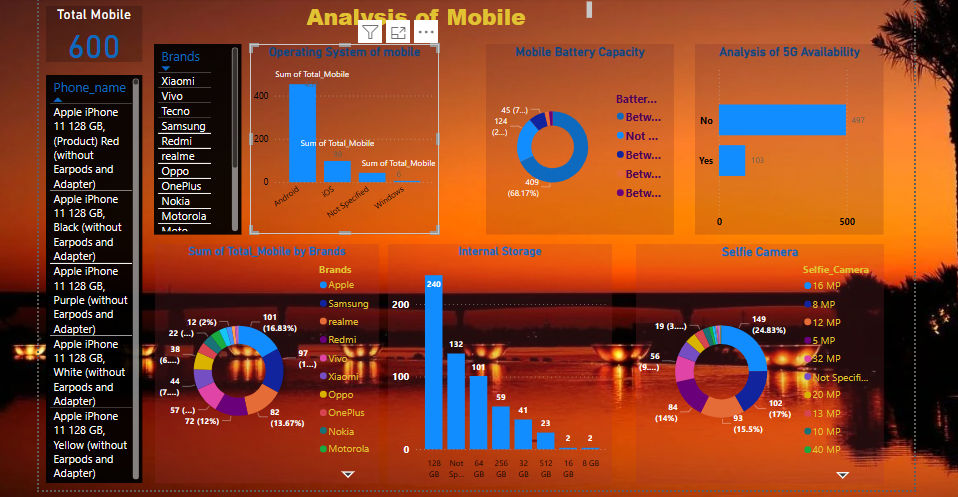

Layout of this report page (visuals, bound fields, positions):
{"tool":"powerbi","page":{"name":"Page 1","canvas":[1280,720],"ordinal":0},"visuals":[{"type":"card","title":"Total Mobile","fields":{"Values":["Sum(mobile mobile.Total_Mobile)"]},"box":[10.1,11.4,140.5,82.3],"z":0},{"type":"tableEx","fields":{"Values":["mobile mobile.Phone_name"]},"box":[9.7,113.1,140.7,597.2],"z":1000},{"type":"tableEx","fields":{"Values":["mobile mobile.Brands"]},"box":[168.1,66.7,127.8,279.2],"z":2000},{"type":"clusteredColumnChart","title":"Operating System of mobile","fields":{"Category":["mobile mobile.Operating_System_Type"],"Y":["Sum(mobile mobile.Total_Mobile)"]},"box":[308.3,66.7,276.4,279.2],"z":3000},{"type":"donutChart","title":"Mobile Battery Capacity","fields":{"Category":["mobile mobile.Battery_Capacity_Range"],"Y":["Sum(mobile mobile.Total_Mobile)"]},"box":[654.2,66.7,275,279.2],"z":4000},{"type":"barChart","title":"Analysis of 5G Availability","fields":{"Category":["mobile mobile.5G_Availability"],"Y":["Sum(mobile mobile.Total_Mobile)"]},"box":[959.7,66.7,276.4,279.2],"z":5000},{"type":"donutChart","fields":{"Category":["mobile mobile.Brands"],"Y":["Sum(mobile mobile.Total_Mobile)"]},"box":[169.4,359.7,327.8,350],"z":6000},{"type":"columnChart","title":"Internal Storage","fields":{"Category":["mobile mobile.Internal_Storage"],"Y":["Sum(mobile mobile.Total_Mobile)"]},"box":[511.1,359.7,327.8,351.4],"z":7000},{"type":"donutChart","title":"Selfie Camera","fields":{"Category":["mobile mobile.Selfie_Camera"],"Y":["Sum(mobile mobile.Total_Mobile)"]},"box":[873.6,359.7,362.5,351.4],"z":8000},{"type":"textbox","box":[386.1,0,427.8,55.6],"z":9000}]}

Visuals, with their boxes on the page's 1280x720 design canvas (x1, y1, x2, y2). These are canvas units, not pixel positions in the 958x497 screenshot, which may show the page scaled, cropped or inside an application window:
"Total Mobile" card: bbox(10, 11, 151, 94)
tableEx - mobile mobile.Phone_name: bbox(10, 113, 150, 710)
tableEx - mobile mobile.Brands: bbox(168, 67, 296, 346)
"Operating System of mobile" clusteredColumnChart: bbox(308, 67, 585, 346)
"Mobile Battery Capacity" donutChart: bbox(654, 67, 929, 346)
"Analysis of 5G Availability" barChart: bbox(960, 67, 1236, 346)
donutChart - mobile mobile.Brands x Sum(mobile mobile.Total_Mobile): bbox(169, 360, 497, 710)
"Internal Storage" columnChart: bbox(511, 360, 839, 711)
"Selfie Camera" donutChart: bbox(874, 360, 1236, 711)
textbox: bbox(386, 0, 814, 56)
